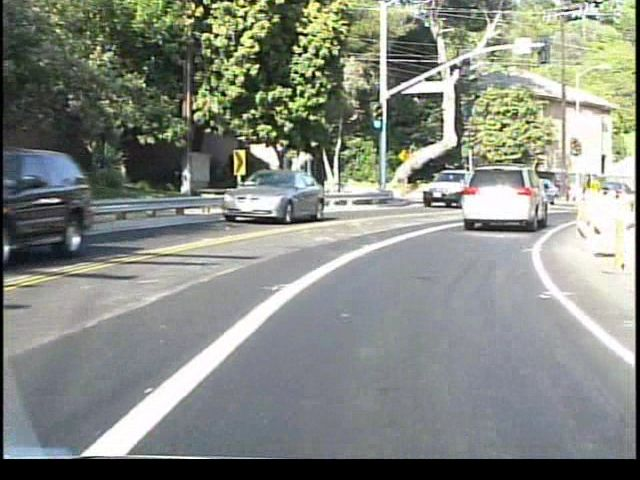car: (1, 153, 111, 269), (220, 165, 309, 224), (468, 173, 535, 224), (423, 169, 462, 208)
strada: (10, 229, 612, 453)
